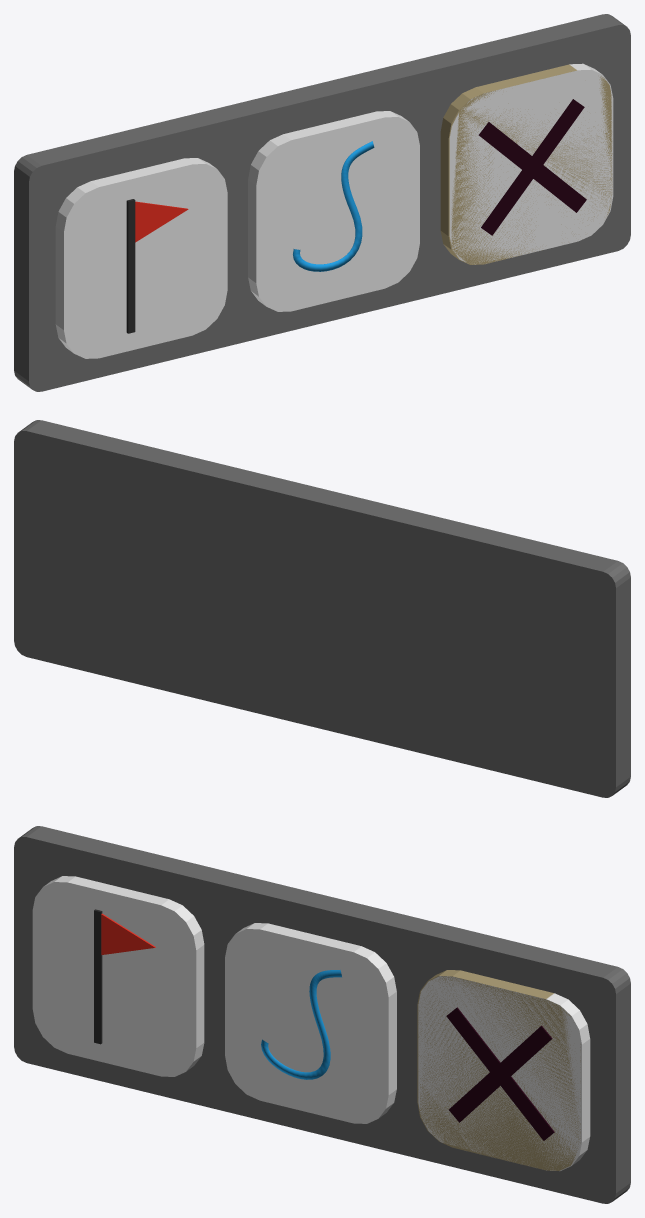
The model's file is hub.glb.
3 renders of one model, top to bottom at view 1: azimuth 30°, elevation 25°; view 2: azimuth 150°, elevation 25°; view 3: azimuth 330°, elevation 25°, orthographic.
Parts seen in each view (by area): view 1: base, hitSurface, hitSurface.002, hitSurface.001, eraseButton, Plane, lineIcon, flagIcon, flag; view 2: base; view 3: base, hitSurface, hitSurface.002, hitSurface.001, eraseButton, Plane, lineIcon, flag, flagIcon.
Part boxes in pixels (bbox=[...]): base: bbox=[14, 14, 630, 391]; hitSurface: bbox=[248, 111, 419, 311]; hitSurface.002: bbox=[55, 158, 227, 358]; hitSurface.001: bbox=[449, 63, 613, 264]; eraseButton: bbox=[440, 64, 612, 264]; Plane: bbox=[478, 99, 586, 235]; lineIcon: bbox=[293, 141, 374, 271]; flagIcon: bbox=[126, 199, 135, 333]; flag: bbox=[135, 201, 188, 242]; base: bbox=[14, 420, 630, 797]; base: bbox=[14, 826, 630, 1203]; hitSurface: bbox=[225, 923, 396, 1123]; hitSurface.002: bbox=[32, 876, 204, 1076]; hitSurface.001: bbox=[418, 976, 590, 1171]; eraseButton: bbox=[417, 970, 580, 1170]; Plane: bbox=[446, 1007, 554, 1140]; lineIcon: bbox=[261, 970, 341, 1079]; flag: bbox=[101, 913, 155, 954]; flagIcon: bbox=[94, 909, 102, 1044].
Bounding box in the file's own units: 0.5007 × 0.1796 × 0.0355.
